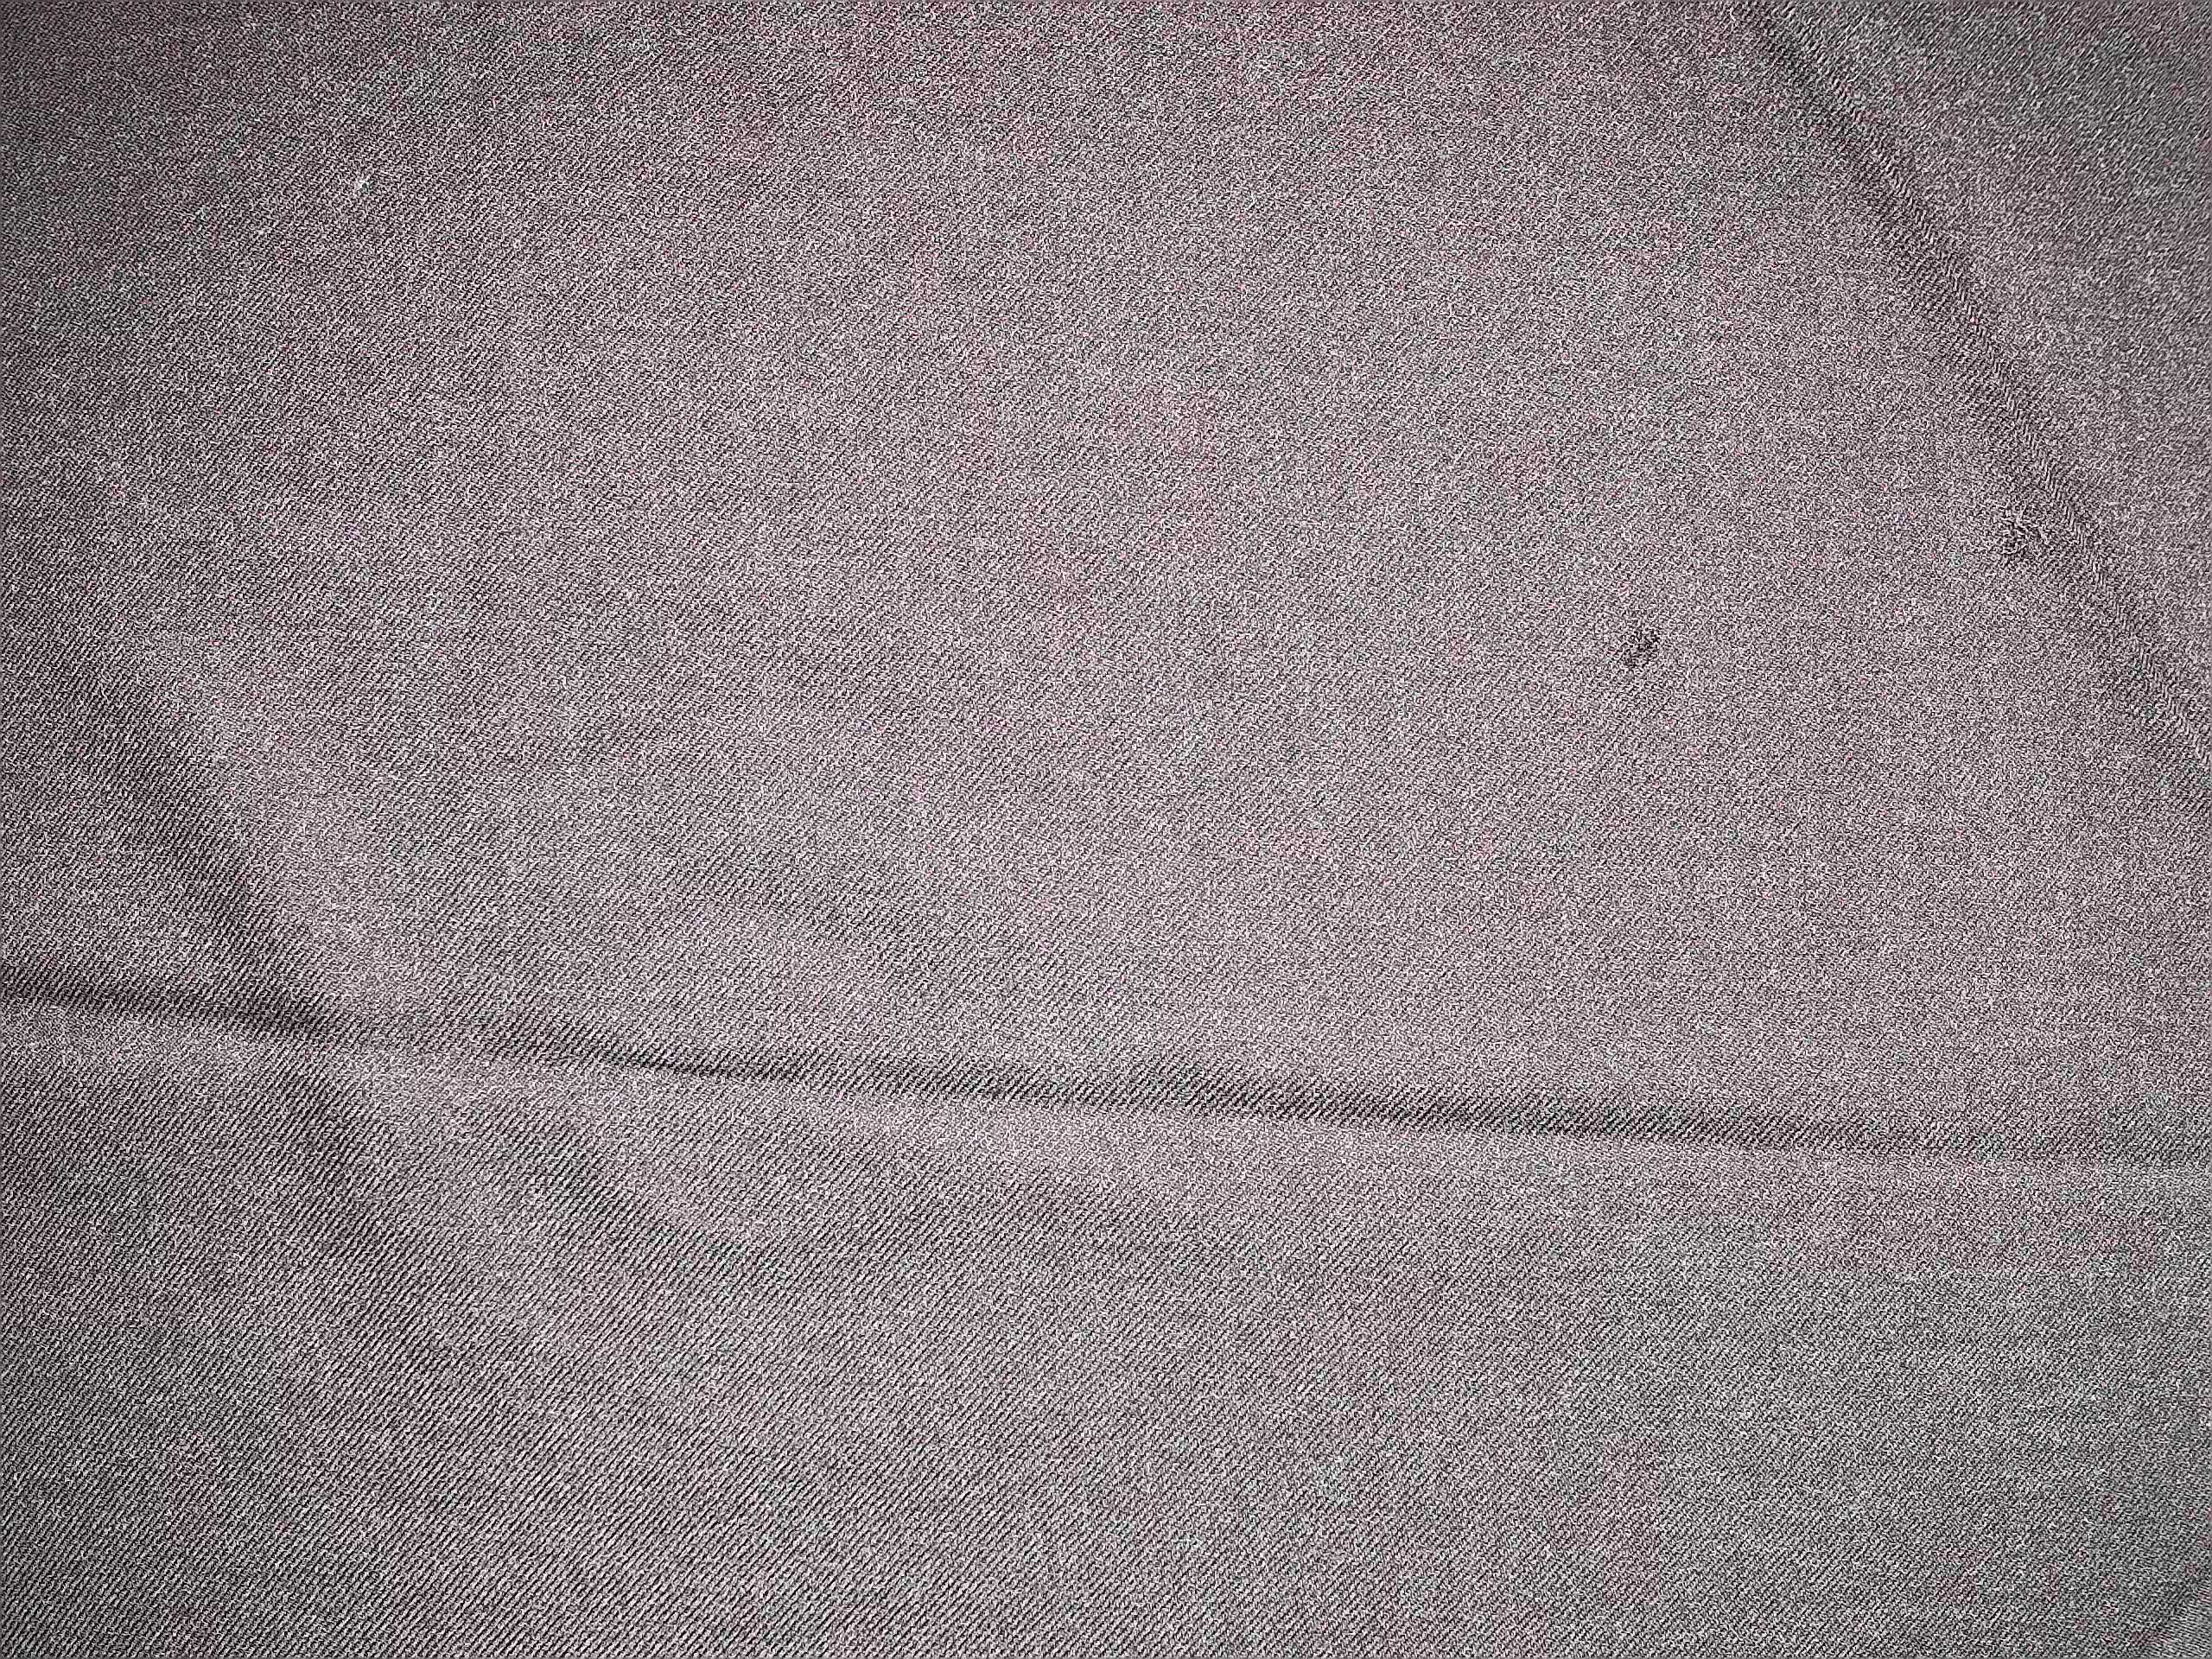rubbing-hole: (1980, 484, 2064, 589), (1595, 601, 1683, 699)
